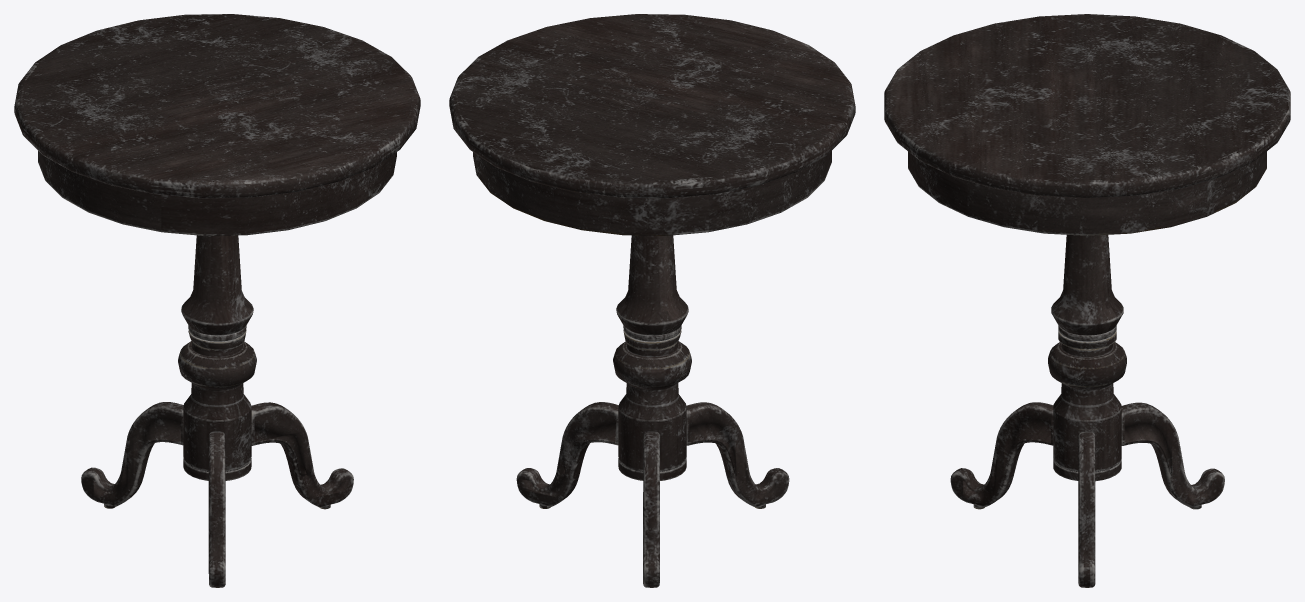
File: legs.glb
3 renders of one model, left to right at view 1: azimuth 30°, elevation 25°; view 2: azimuth 150°, elevation 25°; view 3: azimuth 270°, elevation 25°, orthographic.
Visible parts, largest first — view 1: Object_2; view 2: Object_2; view 3: Object_2.
Part boxes in pixels (<box>): Object_2: <box>14,14,420,587</box>; Object_2: <box>449,14,855,587</box>; Object_2: <box>884,14,1290,587</box>.
Bounding box in the file's own units: 27.94 × 33.02 × 27.94.
1 material, 1 textured.
